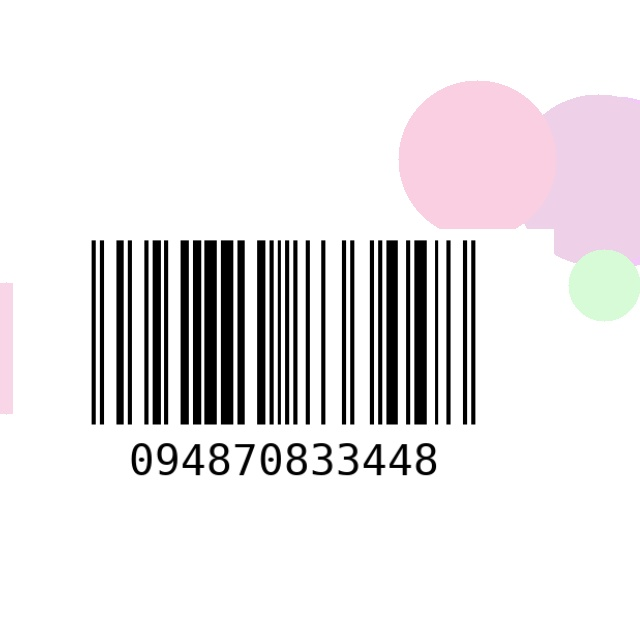barcode: (13, 229, 554, 519)
